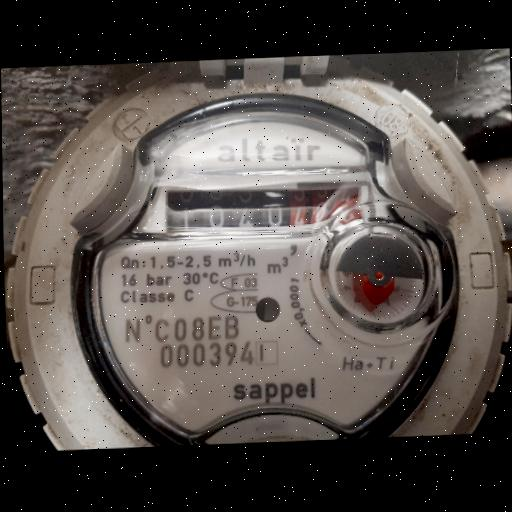0: (198, 190, 234, 234), (309, 187, 339, 231), (259, 190, 289, 231)
1: (167, 191, 201, 234)
4: (232, 190, 262, 231), (286, 189, 312, 231), (333, 185, 361, 219)
border_water_meter_number: (162, 177, 368, 239)
